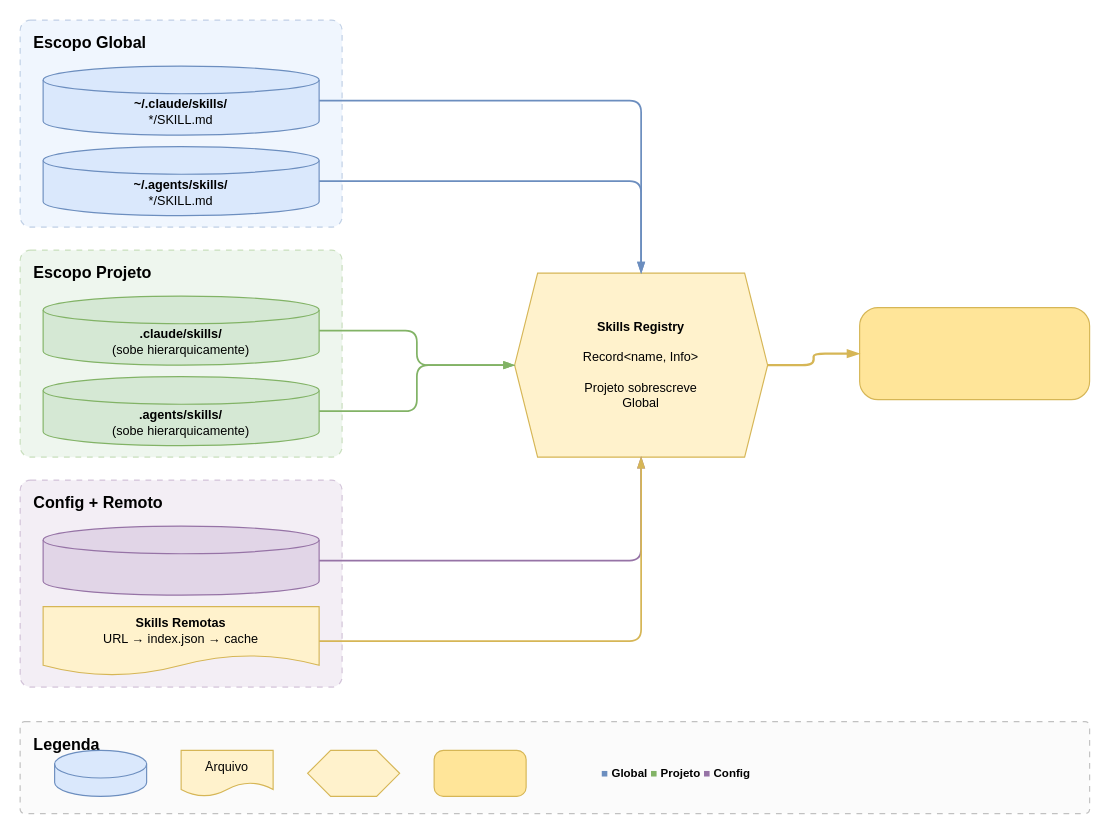
This 1110x834 diagram has some shape labels left out. Here are the shapes that lost their labels. From the top down, the centre of each, then its label:
point (974, 353): Tool 'skill' Descrição inclui índice das skills
point (180, 560): .opencode/skills/ opencode.json
point (100, 772): Diretório
point (353, 772): Registry
point (479, 772): Output
